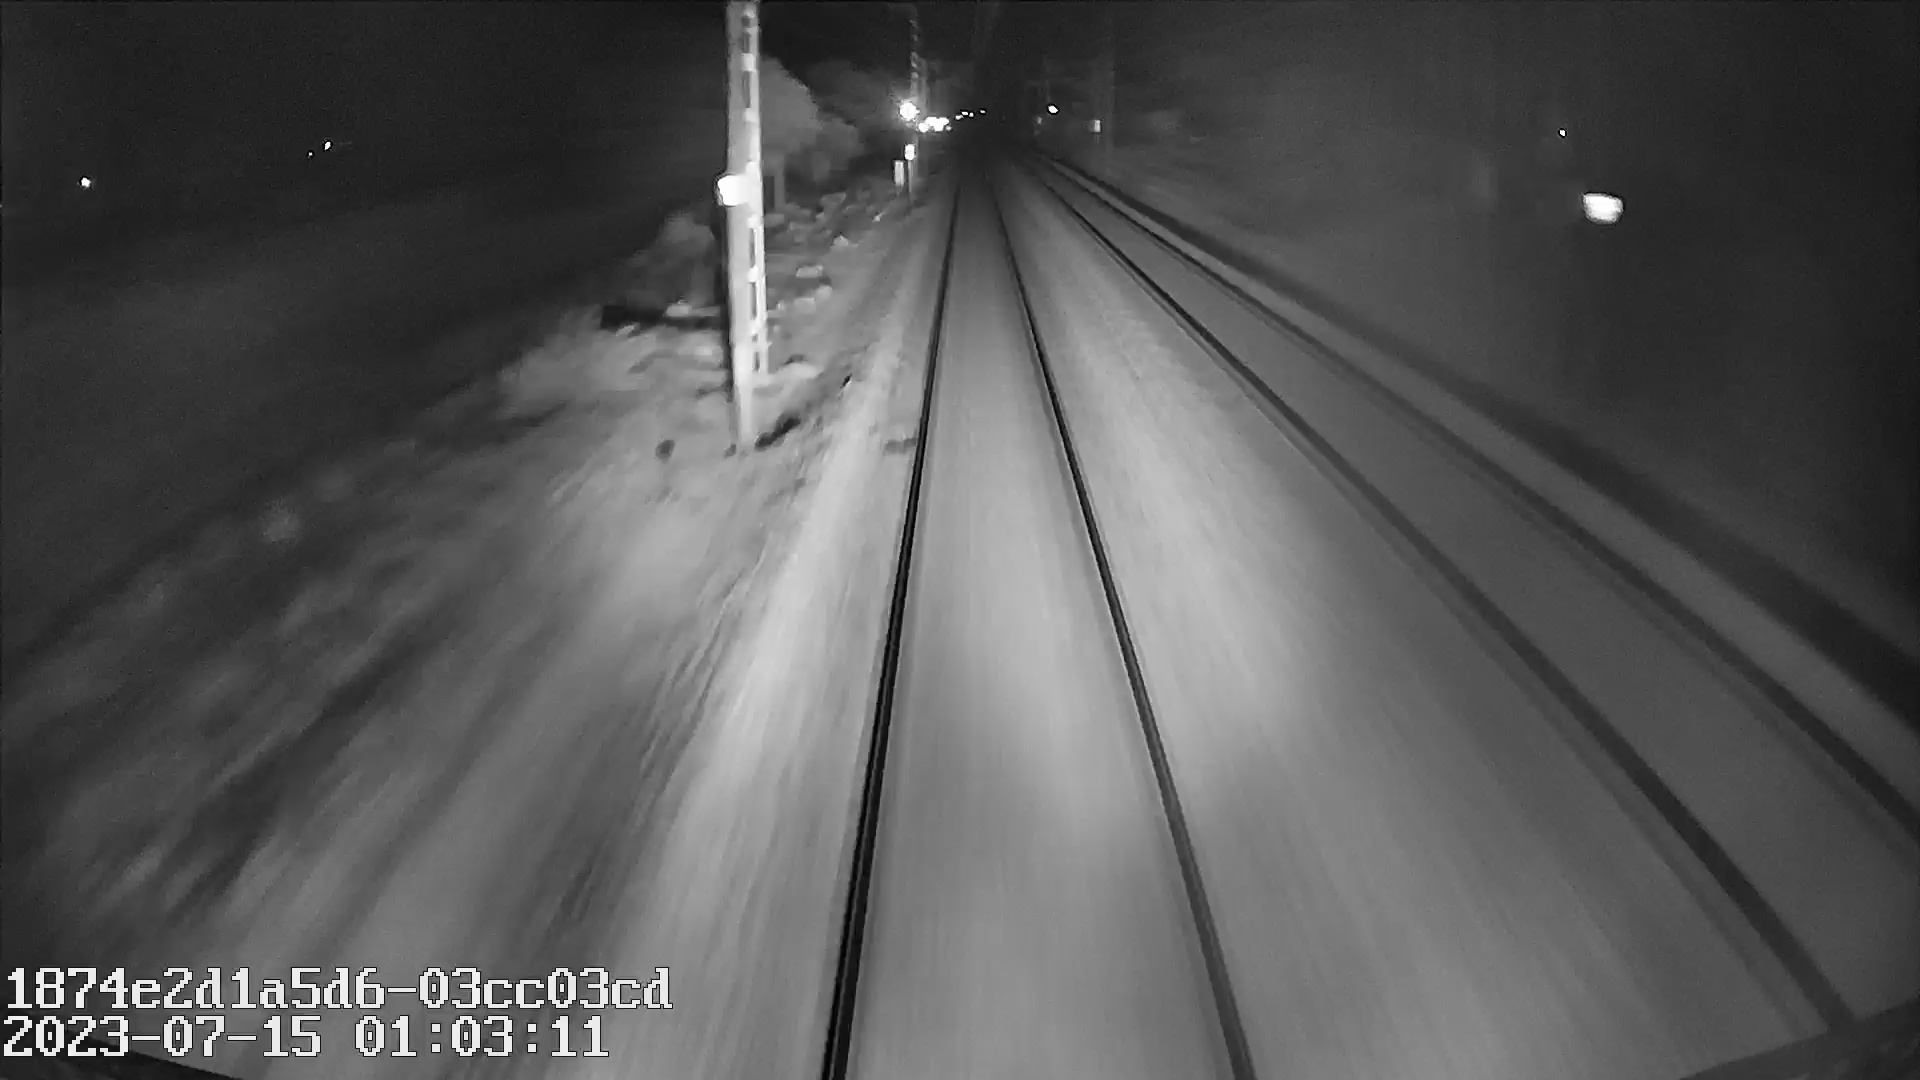track1: (839, 186, 1225, 1039)
track2: (1052, 181, 1911, 957)
